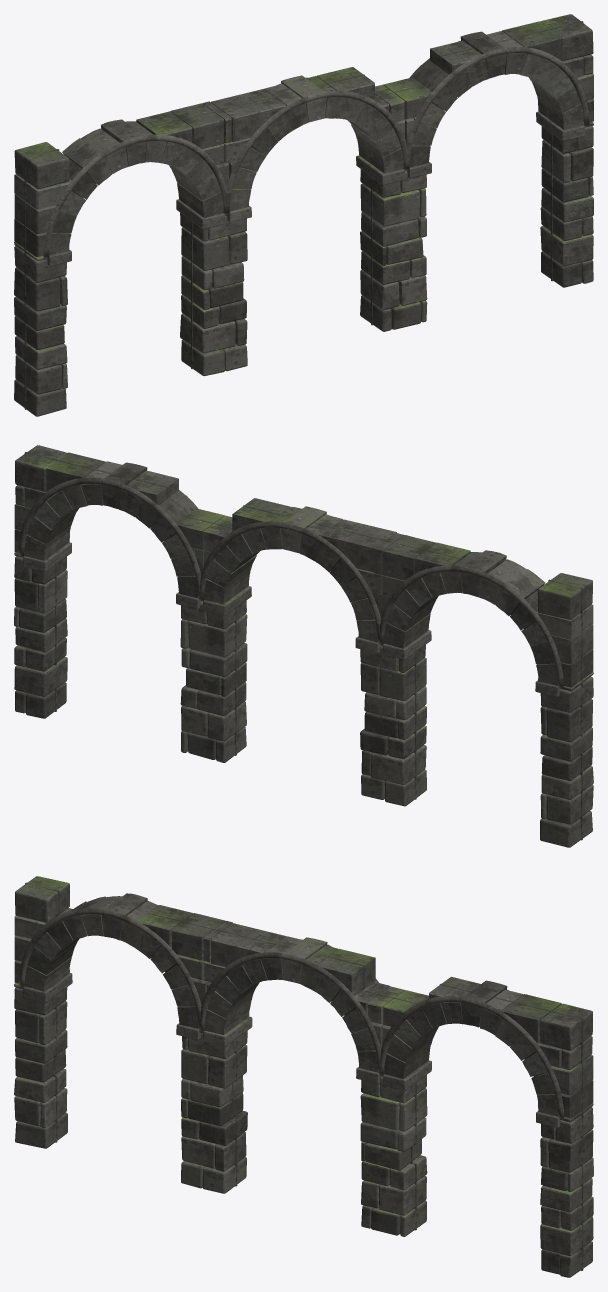
File: ER_Arcade_Murale_3Arches_12m.gltf
3 views of the same model, one above another, from view 1: azimuth 30°, elevation 25°; view 2: azimuth 150°, elevation 25°; view 3: azimuth 330°, elevation 25° (orthographic).
Visible parts, largest first — view 1: ER_Arcade_Murale_3Arches_12m_P.001, ER_Arcade_Murale_3Arches_12m_MOUL.001, ER_Arcade_Murale_3Arches_12m_PS.001; view 2: ER_Arcade_Murale_3Arches_12m_P.001, ER_Arcade_Murale_3Arches_12m_MOUL.001, ER_Arcade_Murale_3Arches_12m_PS.001; view 3: ER_Arcade_Murale_3Arches_12m_P.001, ER_Arcade_Murale_3Arches_12m_MOUL.001, ER_Arcade_Murale_3Arches_12m_PS.001.
Part boxes in pixels (x1,y1,x2,y2): ER_Arcade_Murale_3Arches_12m_P.001: (14,14,593,416); ER_Arcade_Murale_3Arches_12m_MOUL.001: (43,47,589,266); ER_Arcade_Murale_3Arches_12m_PS.001: (24,21,583,409); ER_Arcade_Murale_3Arches_12m_P.001: (14,445,593,847); ER_Arcade_Murale_3Arches_12m_MOUL.001: (18,477,563,696); ER_Arcade_Murale_3Arches_12m_PS.001: (24,452,582,840); ER_Arcade_Murale_3Arches_12m_P.001: (14,876,593,1277); ER_Arcade_Murale_3Arches_12m_MOUL.001: (18,908,564,1127); ER_Arcade_Murale_3Arches_12m_PS.001: (25,882,583,1270).
Size of the model in its own units: 12.41 by 5.47 by 1.08.
4 materials, 3 textured.
